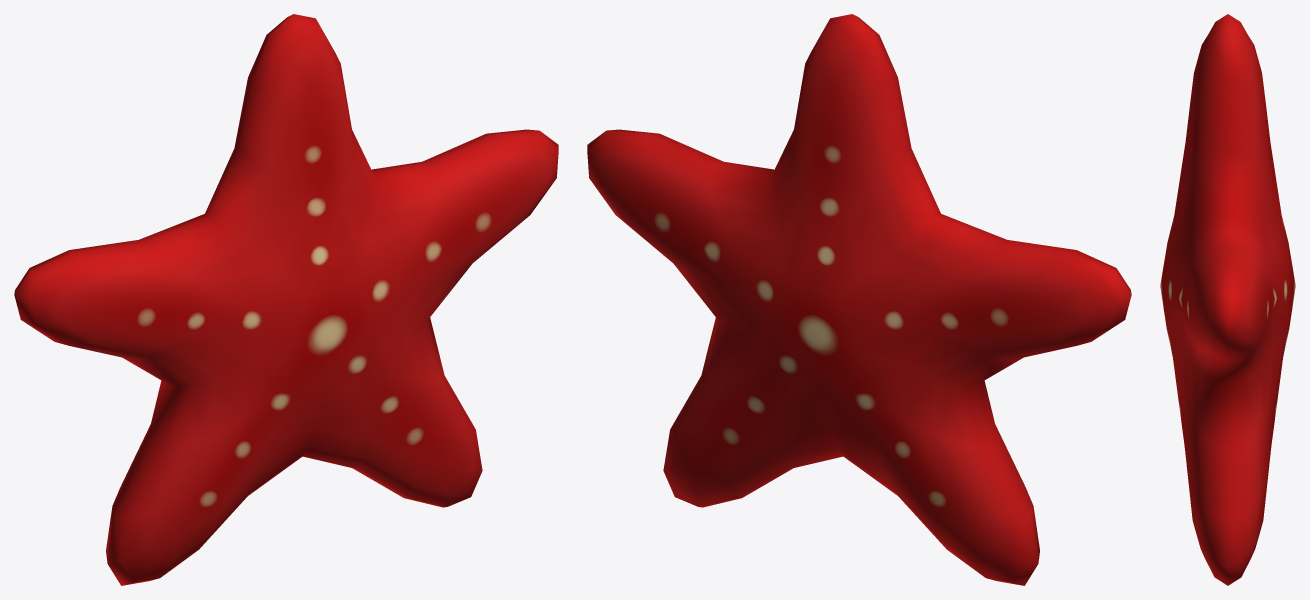
Rendered from 불가사리(빨강.fbx.
The picture shows the model from 3 angles, left to right: view 1: azimuth 30°, elevation 25°; view 2: azimuth 150°, elevation 25°; view 3: azimuth 270°, elevation 25°; orthographic projection. The views are drawn at different scales.
Visible parts, largest first — view 1: Cylinder005; view 2: Cylinder005; view 3: Cylinder005.
Boxes of the visible parts, x1,y1,x2,y2 form: Cylinder005: (14,14,558,585); Cylinder005: (587,14,1131,585); Cylinder005: (1160,14,1295,585).
Size of the model in its own units: 42.34 by 9.77 by 39.54.
Materials: 1 (1 with a texture image).
